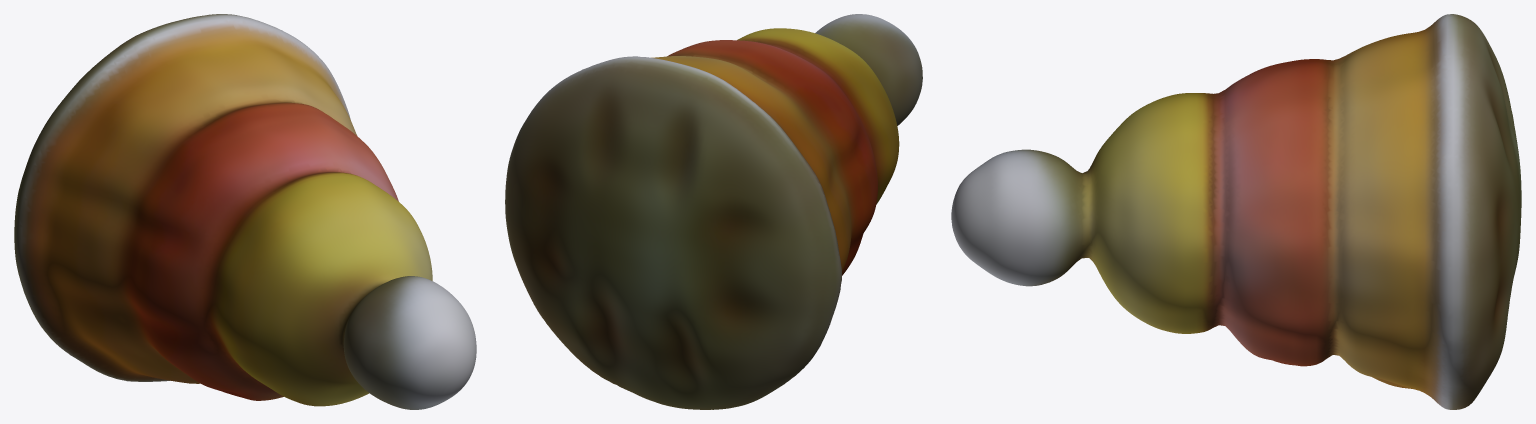
Rendered from chicken.glb.
The picture shows the model from 3 angles, left to right: view 1: azimuth 30°, elevation 25°; view 2: azimuth 150°, elevation 25°; view 3: azimuth 270°, elevation 25°; orthographic projection. The views are drawn at different scales.
Size of the model in its own units: 0.698 by 0.6937 by 0.9998.
